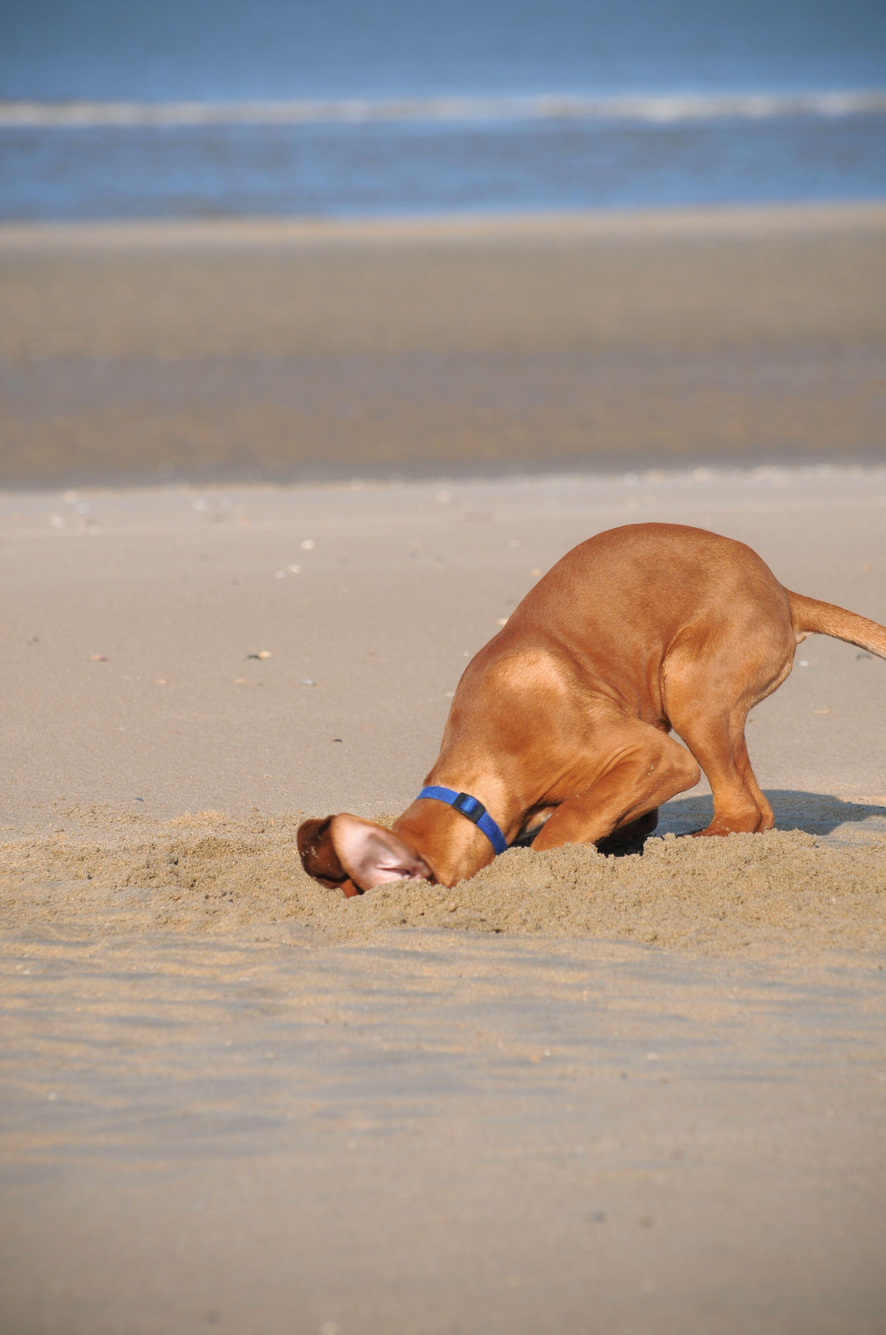adult_dog: (295, 520, 886, 899)
